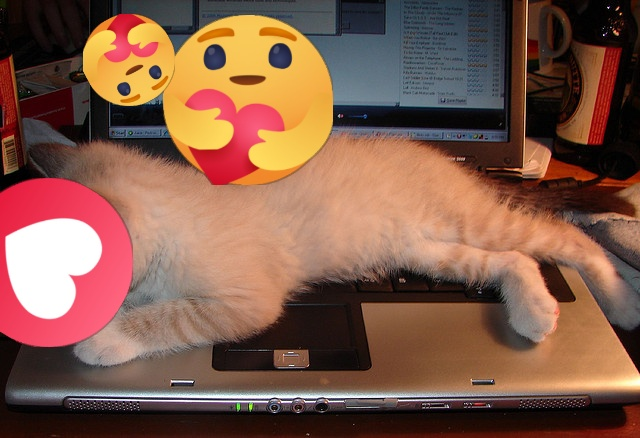care: (163, 15, 333, 185), (83, 14, 175, 106)
love: (0, 178, 133, 347)
